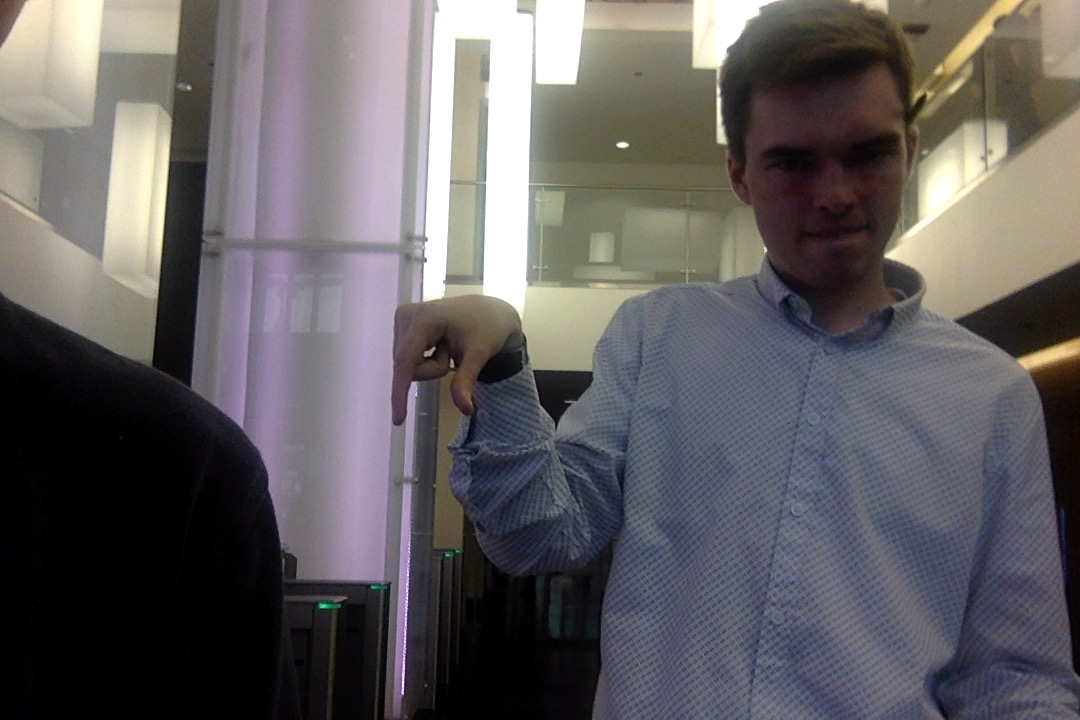q: (381, 292, 530, 439)
